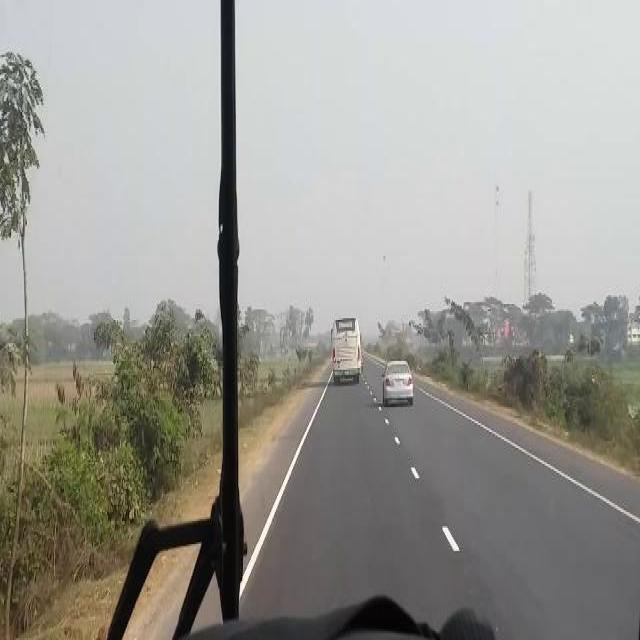bus: (331, 316, 361, 378)
car: (381, 359, 413, 402)
